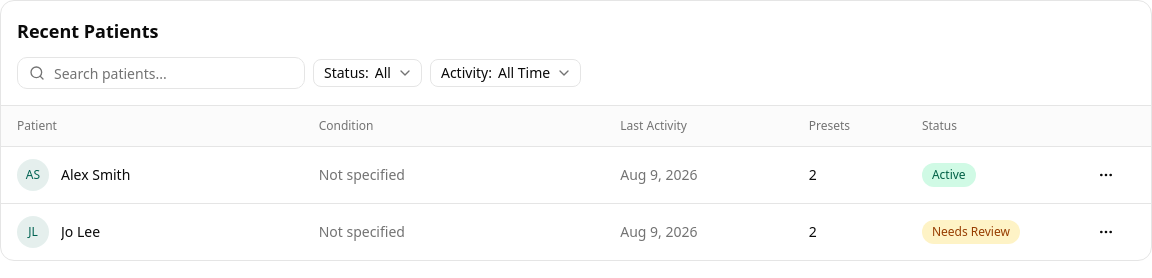
it: RecentPatientsTable › filtering › narrows the rows to the search term
The width and height of the screenshot is (1152, 278).
Step 1. Type "jo" into the field labelled "Search patients" → (161, 73), box [17, 57, 305, 89]
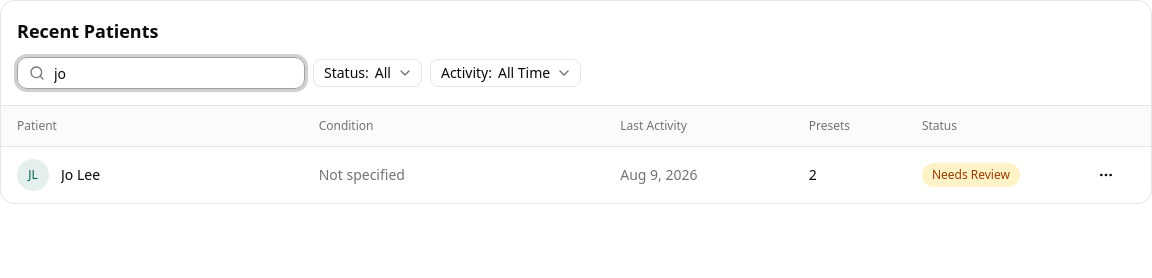
Check: the text "Jo Lee" is shown, box [61, 165, 100, 185]
Check: the text "Alex Smith" is gone
